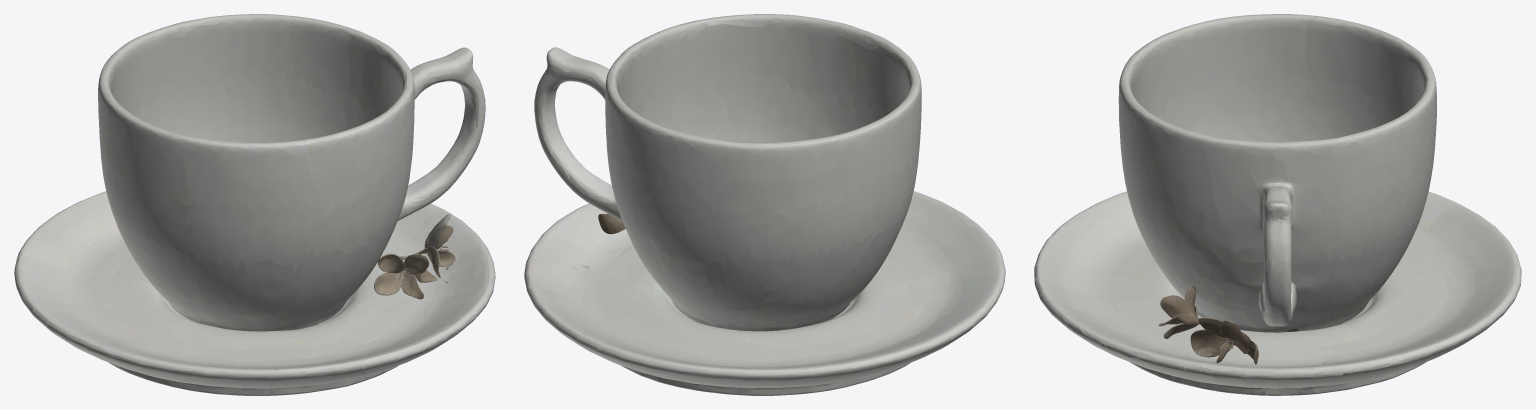
File: taza.glb
3 renders of one model, left to right at view 1: azimuth 30°, elevation 25°; view 2: azimuth 150°, elevation 25°; view 3: azimuth 270°, elevation 25°, orthographic.
Bounding box in the file's own units: 1.9 × 1.01 × 1.84.
1 material, 1 textured.
